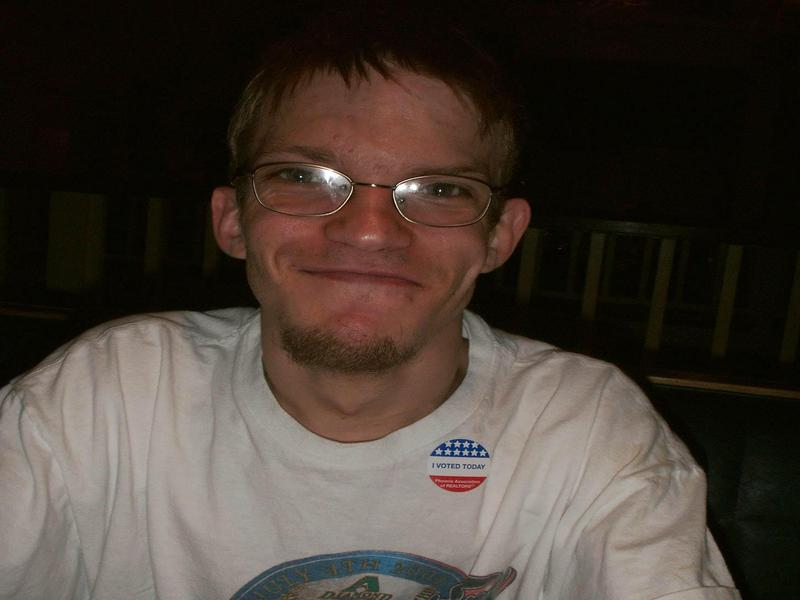person: (7, 34, 743, 600)
